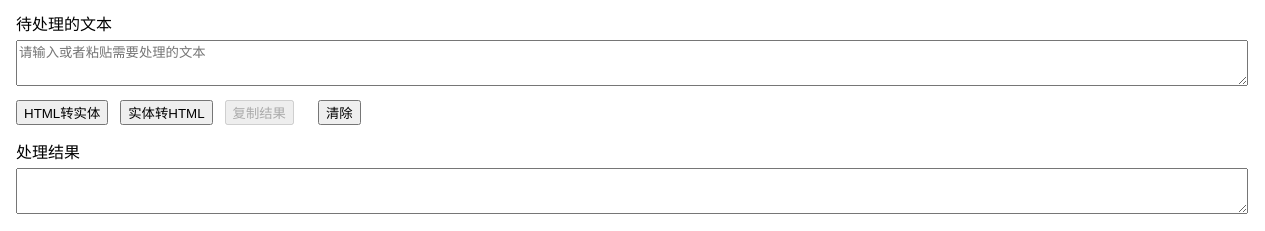
Test: developer and text tools › round trips named HTML character entities
The width and height of the screenshot is (1265, 231).
Type "<你好 & hello>" into the text box labelled "待处理的文本". click: coordinates (632, 63)
box: [16,40,1248,86]
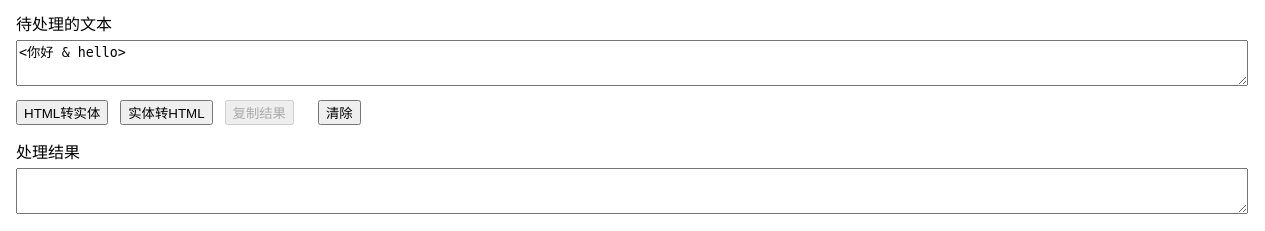
Click the button "HTML转实体". click: coordinates (62, 112)
box: [16,100,108,125]
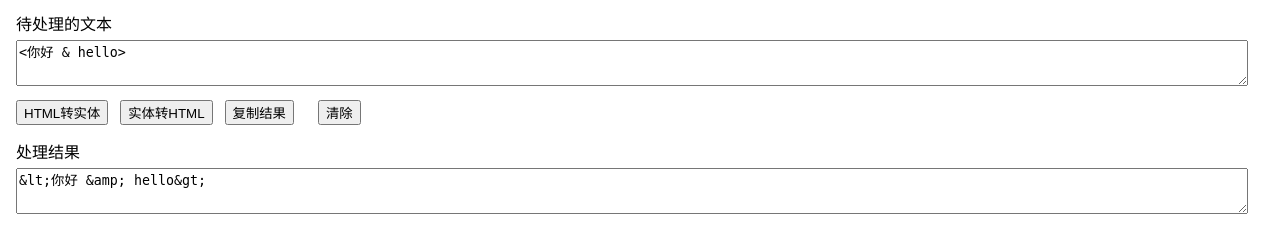
Check: the text box labelled "处理结果" holds "&lt;你好 &amp; hello&gt;", box [16,168,1248,214]
Replace the text in the text box labelled "待处理的文本" with "&lt;你好 &amp; hello&gt;". click: coordinates (632, 63)
box: [16,40,1248,86]
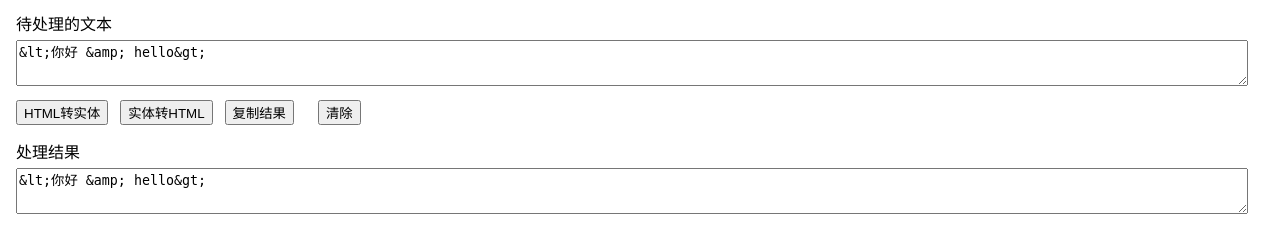
Click the button "实体转HTML". click: coordinates (166, 112)
box: [120,100,213,125]
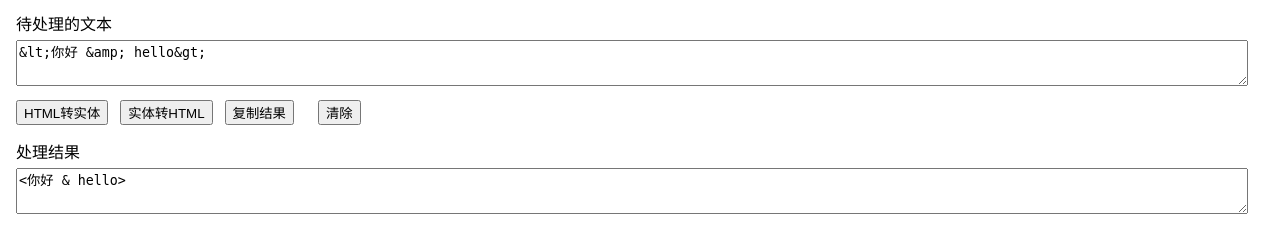
Check: the text box labelled "处理结果" holds "<你好 & hello>", box [16,168,1248,214]
